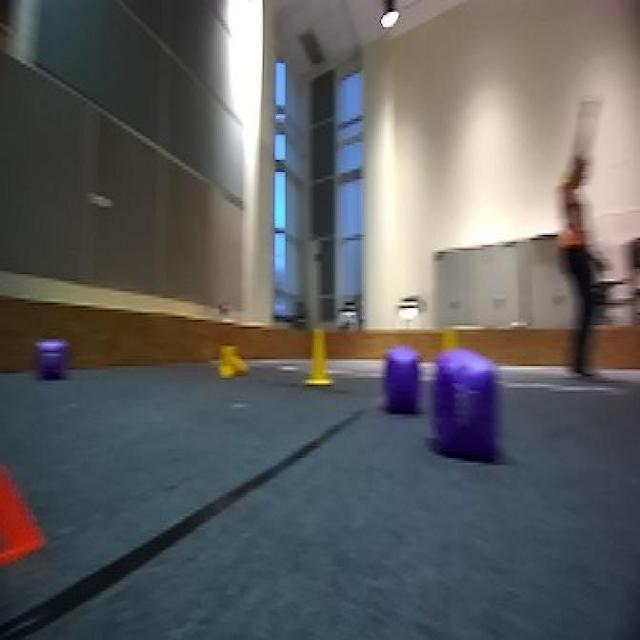frc_cone: (303, 325, 333, 392), (217, 342, 249, 380)
frc_cube: (428, 354, 502, 458), (380, 344, 427, 410), (34, 337, 68, 390)
